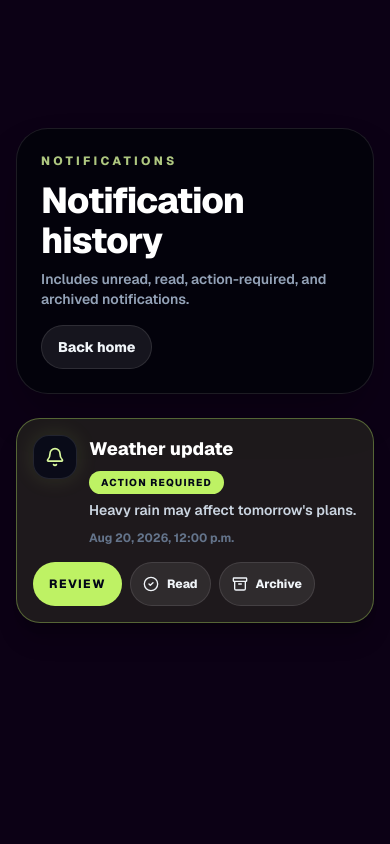
Test: mobile notification history parity › opens review UI for invitation workflows
This screenshot has width=390, height=844.
Click the button "Review": (78, 584) [33, 562, 122, 606]
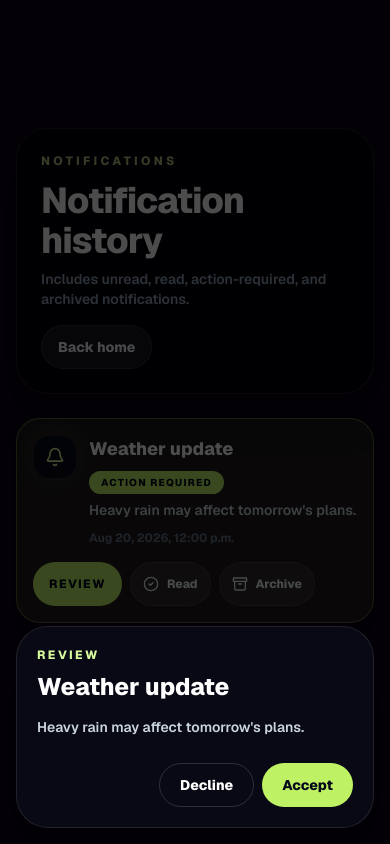
Now the dialog "Weather update" is shown, box [16, 626, 374, 828]
Now the button "Accept" is enabled, box [262, 763, 353, 807]
